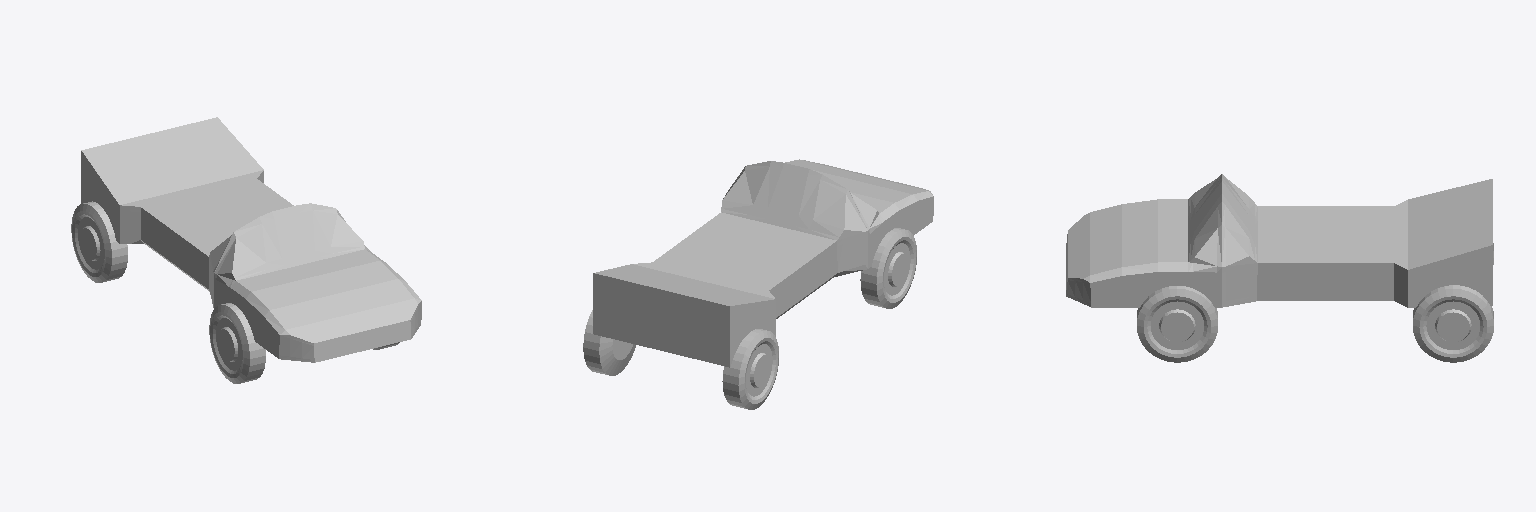
Rendered from car.obj.
3 renders of one model, left to right at view 1: azimuth 30°, elevation 25°; view 2: azimuth 150°, elevation 25°; view 3: azimuth 270°, elevation 25°, orthographic.
Visible parts, largest first — view 1: Car_Cube, Cylinder; view 2: Car_Cube, Cylinder; view 3: Car_Cube, Cylinder.
Boxes of the visible parts, box(x1,y1,x2,y2) form: Car_Cube: box(81, 117, 421, 362); Cylinder: box(71, 201, 399, 383); Car_Cube: box(593, 159, 933, 367); Cylinder: box(583, 228, 916, 409); Car_Cube: box(1066, 174, 1492, 307); Cylinder: box(1137, 243, 1493, 362).
Size of the model in its own units: 1.88 by 1.53 by 4.32.